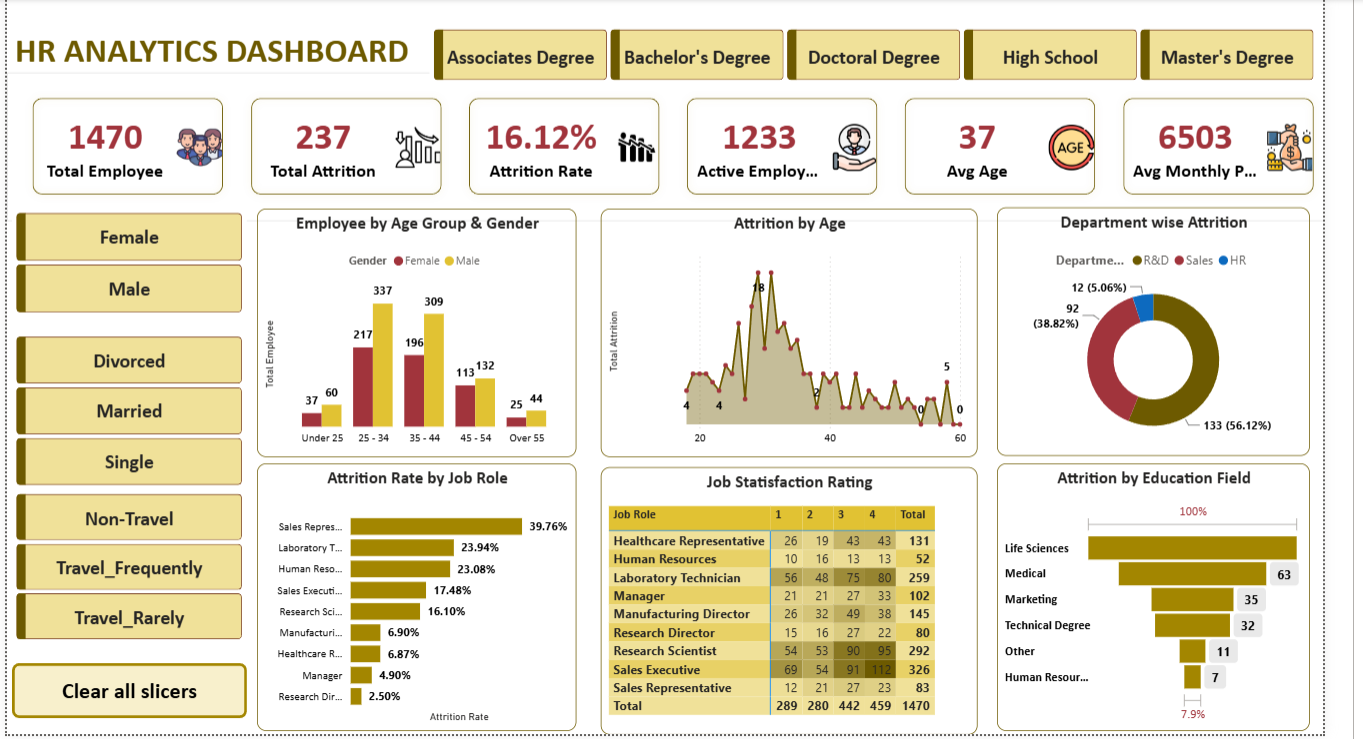

The dashboard page shown, as its layout file describes it:
{"tool":"powerbi","page":{"name":"Dashboard","canvas":[1430,800],"ordinal":0},"visuals":[{"type":"cardVisual","fields":{"Data":["HR data.Total Employee","HR data.Total Attrition","HR data.Attrition Rate","HR data.Active Employee","Avg(HR data.Age)","Avg(HR data.Monthly Income)"]},"box":[0,80.2,1449.7,161.7],"z":0},{"type":"clusteredColumnChart","title":"Employee by Age Group & Gender","fields":{"Category":["HR data.Age Group"],"Y":["HR data.Total Employee"],"Series":["HR data.Gender"]},"box":[271.7,228.3,347.3,270.2],"z":1000},{"type":"areaChart","title":"Attrition by Age","fields":{"Category":["HR data.Age"],"Y":["HR data.Total Attrition"]},"box":[645.4,228.3,409.6,270.2],"z":2000},{"type":"donutChart","title":"Department wise Attrition","fields":{"Category":["HR data.Department"],"Y":["HR data.Total Attrition"]},"box":[1076.1,226.9,339.9,270.2],"z":3000},{"type":"clusteredBarChart","fields":{"Category":["HR data.Job Role"],"Y":["HR data.Attrition Rate"]},"box":[271.7,505.4,347.3,291],"z":4000},{"type":"pivotTable","title":"Job Statisfaction Rating","fields":{"Rows":["HR data.Job Role"],"Columns":["HR data.Job Satisfaction"],"Values":["HR data.Total Employee"]},"box":[645.4,509.5,409.6,291],"z":5000},{"type":"funnel","title":"Attrition by Education Field","fields":{"Category":["HR data.Education Field"],"Y":["HR data.Total Attrition"]},"box":[1076.1,505.4,339.9,291],"z":6000},{"type":"advancedSlicerVisual","fields":{"Values":["HR data.Gender"]},"box":[5.4,228.3,255.4,119.6],"z":7000},{"type":"advancedSlicerVisual","fields":{"Values":["HR data.Marital Status"]},"box":[5.4,362.8,255.4,171.2],"z":8000},{"type":"advancedSlicerVisual","fields":{"Values":["HR data.Business Travel"]},"box":[5.4,534,255.4,169.8],"z":9000},{"type":"advancedSlicerVisual","fields":{"Values":["HR data.Education"]},"box":[459.2,28.5,968.8,65.2],"z":10000},{"type":"actionButton","box":[5.4,722.8,255.4,59.8],"z":11000},{"type":"textbox","box":[0,28.5,445.7,65.2],"z":12000}]}

Visuals, with their boxes on the page's 1430x800 design canvas (x1, y1, x2, y2). These are canvas units, not pixel positions in the 1363x739 screenshot, which may show the page scaled, cropped or inside an application window:
cardVisual - HR data.Total Employee x HR data.Total Attrition: 0,80,1450,242
"Employee by Age Group & Gender" clusteredColumnChart: 272,228,619,498
"Attrition by Age" areaChart: 645,228,1055,498
"Department wise Attrition" donutChart: 1076,227,1416,497
clusteredBarChart - HR data.Job Role x HR data.Attrition Rate: 272,505,619,796
"Job Statisfaction Rating" pivotTable: 645,510,1055,800
"Attrition by Education Field" funnel: 1076,505,1416,796
advancedSlicerVisual - HR data.Gender: 5,228,261,348
advancedSlicerVisual - HR data.Marital Status: 5,363,261,534
advancedSlicerVisual - HR data.Business Travel: 5,534,261,704
advancedSlicerVisual - HR data.Education: 459,28,1428,94
actionButton: 5,723,261,783
textbox: 0,28,446,94
